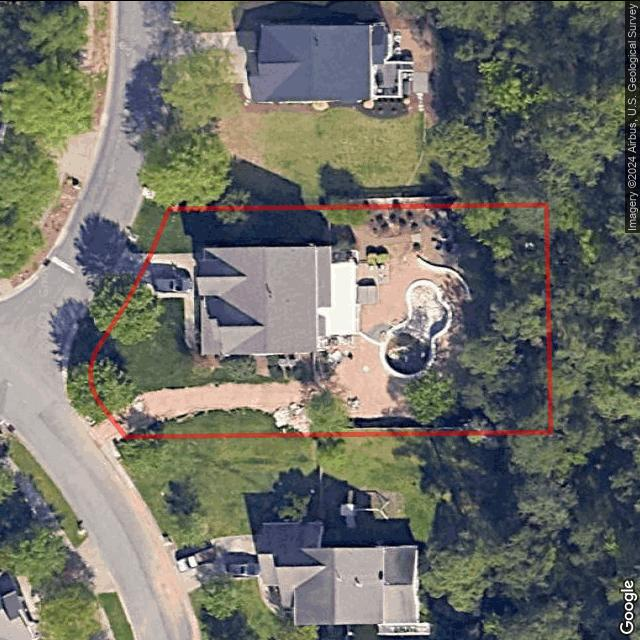Driveway: (127, 252, 201, 299)
Extra-Driveway: (99, 244, 149, 300)
Extra-Lawn: (66, 291, 129, 427), (124, 202, 170, 253)
House: (196, 244, 332, 355)
Lawn: (91, 203, 551, 435)
Other: (105, 206, 498, 436), (192, 351, 268, 378)
Sidewalk: (184, 298, 202, 355)
